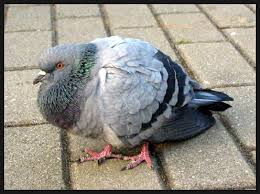pigeon: (34, 35, 232, 171)
